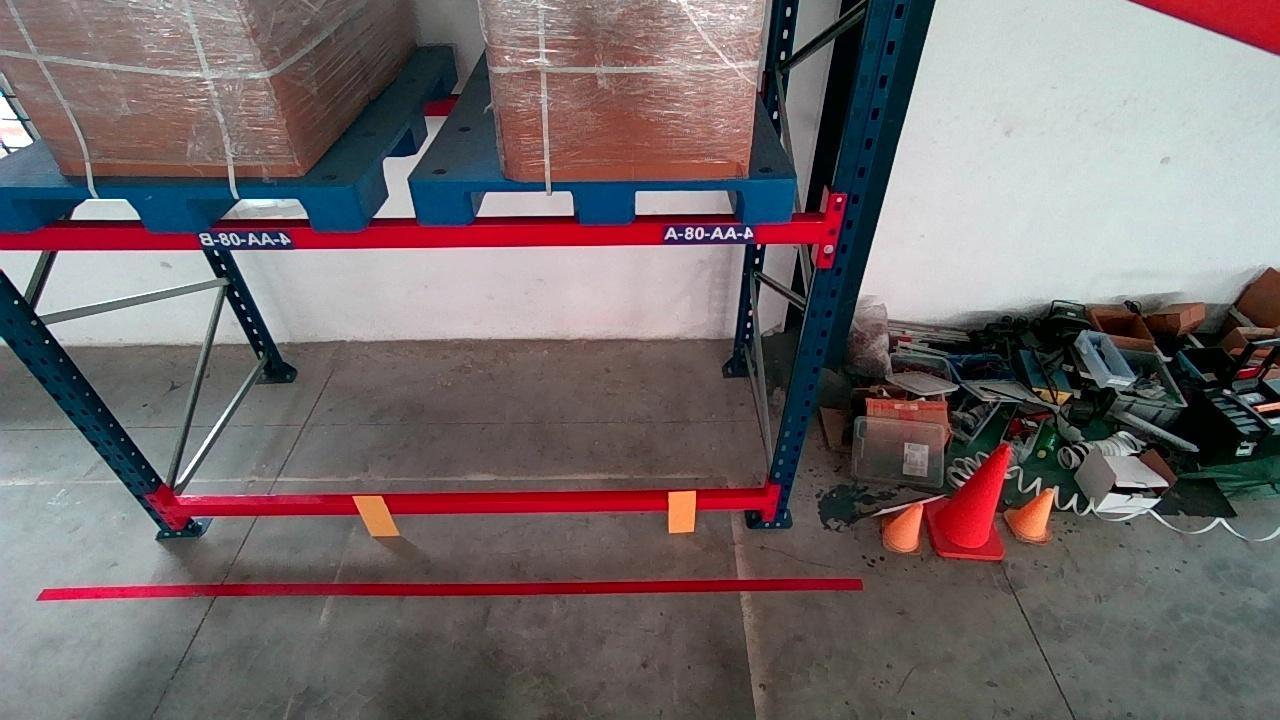h_rack: (10, 215, 817, 258), (180, 487, 765, 520)
orange_strip: (355, 494, 399, 535), (667, 489, 698, 533)
red_line: (29, 573, 865, 603)
small_pallet: (2, 183, 360, 232), (418, 176, 797, 222)
